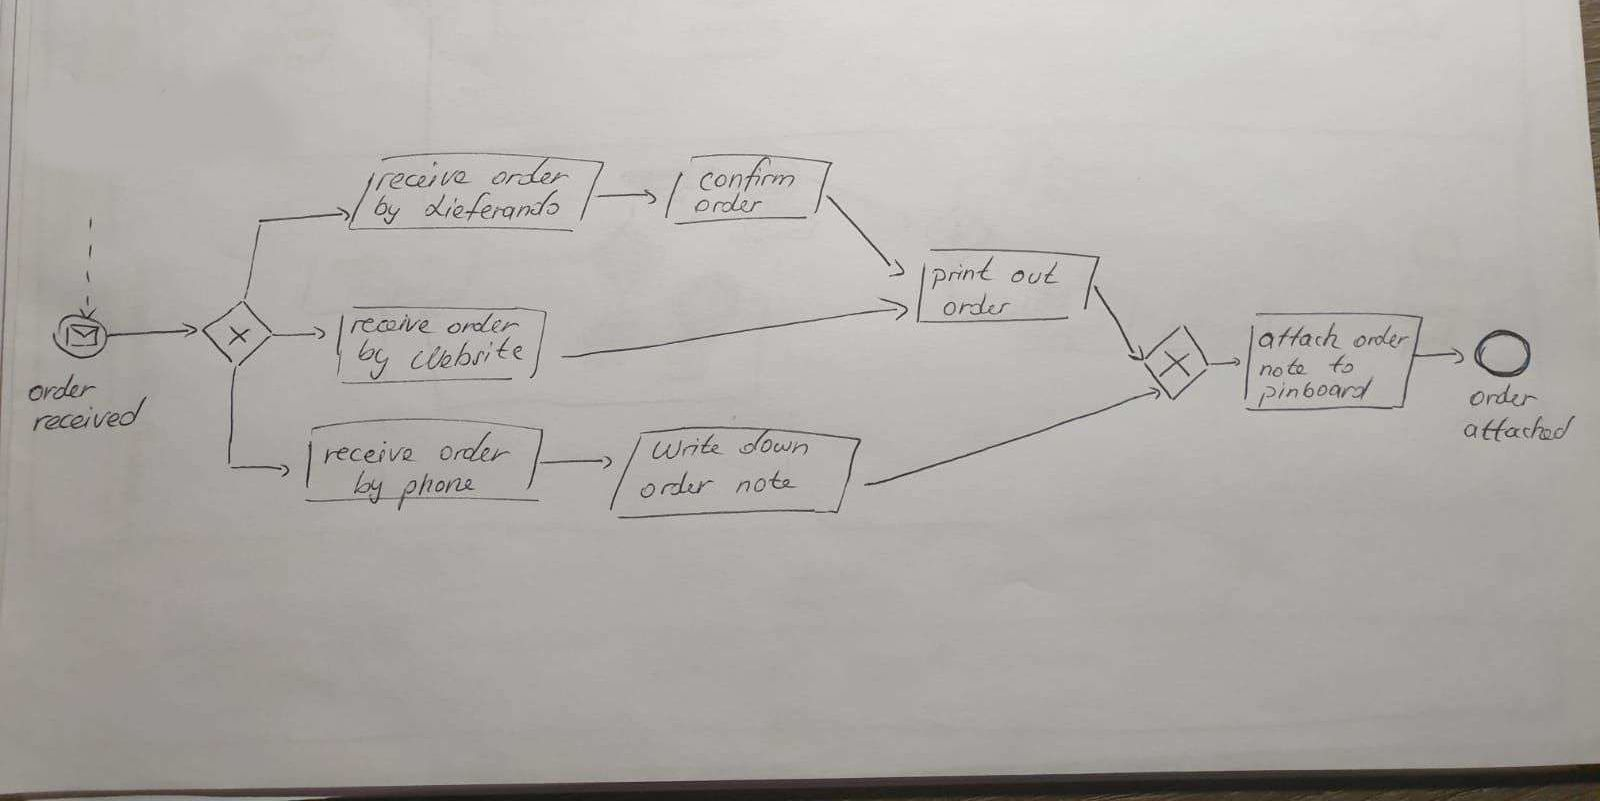Lieferando: (421, 189, 565, 224)
Website: (409, 337, 529, 373)
Write: (648, 433, 727, 462)
attach: (1256, 324, 1345, 354)
attached: (1459, 414, 1575, 446)
by: (355, 340, 400, 382), (371, 194, 406, 227), (351, 469, 388, 501)
confirm: (694, 158, 801, 198)
down: (733, 430, 813, 461)
note: (731, 467, 797, 502), (1255, 357, 1311, 381)
order: (438, 431, 514, 468), (492, 158, 573, 190), (25, 371, 100, 405), (637, 472, 718, 503), (444, 312, 520, 338), (938, 294, 1016, 319), (1350, 324, 1411, 354), (1469, 384, 1539, 410), (689, 194, 766, 216)
out: (1009, 262, 1063, 288)
phone: (394, 471, 478, 511)
pinboard: (1254, 378, 1376, 407)
print: (928, 255, 1000, 293)
receive: (372, 162, 471, 194), (321, 440, 426, 470), (345, 313, 436, 337)
received: (25, 404, 150, 436)
to: (1327, 352, 1358, 378)
